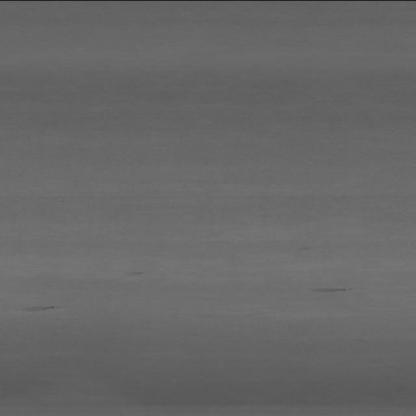water_spot: (19, 299, 86, 319), (304, 277, 352, 303), (121, 264, 164, 288)
